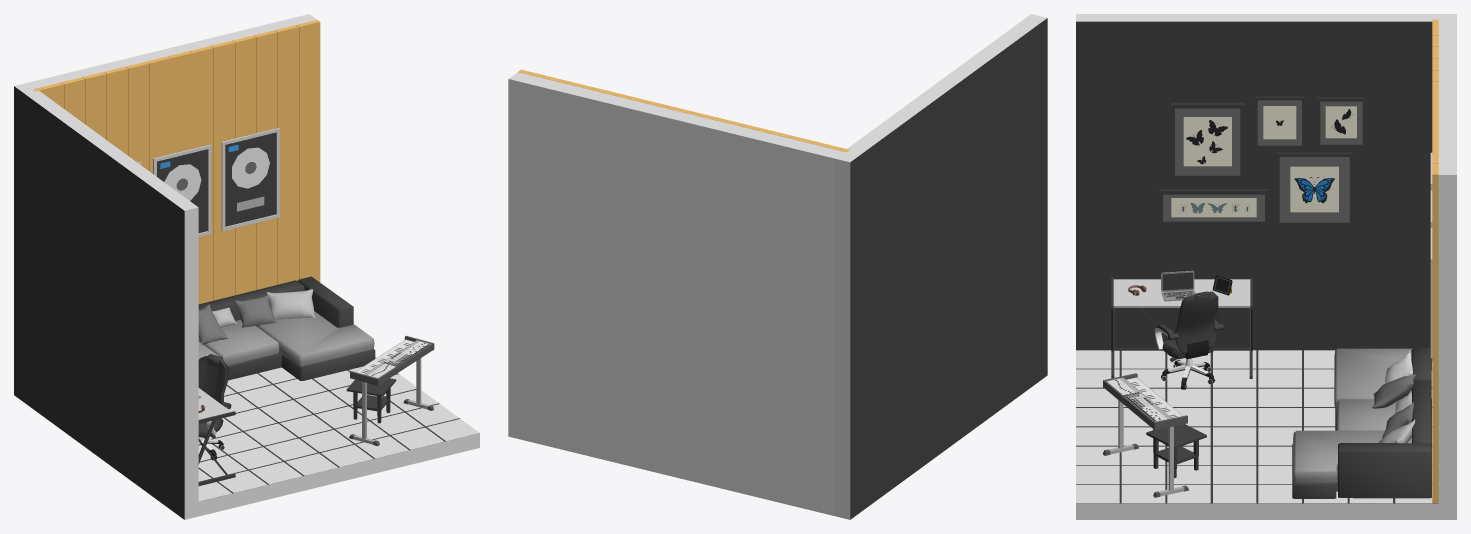
The model's file is room_18.glb.
3 views of the same model, side by side, from view 1: azimuth 30°, elevation 25°; view 2: azimuth 150°, elevation 25°; view 3: azimuth 270°, elevation 25° (orthographic). The views are drawn at different scales.
Visible parts, largest first — view 1: Walls_011.019, floor_014.002, sofa_034.002, Walls_011.010, Walls_024.001, Walls_024.002, picture_059.003, Walls_024.005, Walls_024.003, Walls_024.004, Walls_024.006, picture_059.002 (+11 smaller); view 2: Walls_006.056, Walls_011.019; view 3: Walls_011.019, floor_014.002, sofa_034.002, Walls_011.010, Walls_006.056, picture_027.002, picture_052.001, picture_053.001, office_chair_001.003, office_table_024.001, musical_instrument_004.001, picture_048.002 (+4 smaller).
Part boxes in pixels (bbox=[...]): Walls_011.019: bbox=[14, 82, 198, 519]; floor_014.002: bbox=[198, 357, 479, 501]; sofa_034.002: bbox=[198, 276, 375, 380]; Walls_011.010: bbox=[198, 370, 479, 516]; Walls_024.001: bbox=[296, 20, 320, 282]; Walls_024.002: bbox=[275, 25, 298, 284]; picture_059.003: bbox=[221, 128, 279, 231]; Walls_024.005: bbox=[211, 40, 234, 300]; Walls_024.003: bbox=[254, 30, 277, 289]; Walls_024.004: bbox=[232, 35, 256, 295]; Walls_024.006: bbox=[190, 46, 213, 304]; picture_059.002: bbox=[153, 144, 211, 236]; Walls_006.056: bbox=[508, 72, 842, 515]; Walls_011.019: bbox=[834, 14, 1047, 519]; Walls_011.019: bbox=[1076, 14, 1456, 350]; floor_014.002: bbox=[1076, 350, 1432, 503]; sofa_034.002: bbox=[1292, 348, 1432, 498]; Walls_011.010: bbox=[1076, 350, 1438, 519]; Walls_006.056: bbox=[1438, 21, 1456, 519]; picture_027.002: bbox=[1170, 103, 1244, 180]; picture_052.001: bbox=[1276, 152, 1352, 225]; picture_053.001: bbox=[1159, 189, 1268, 225]; office_chair_001.003: bbox=[1154, 291, 1223, 389]; office_table_024.001: bbox=[1111, 277, 1252, 378]; musical_instrument_004.001: bbox=[1103, 373, 1188, 497]; picture_048.002: bbox=[1254, 96, 1304, 148].
Bounding box in the file's own units: 4.2 × 4.2 × 4.2.
Materials: 1 (1 with a texture image).
